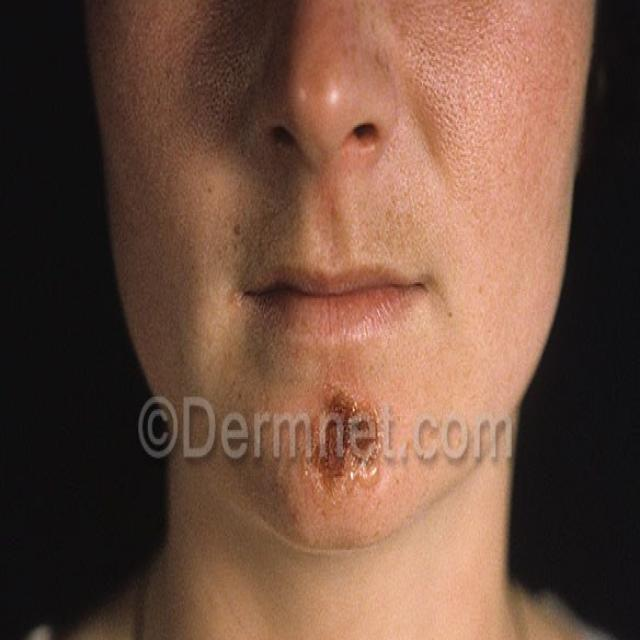Viral Infections: (301, 368, 389, 527)
